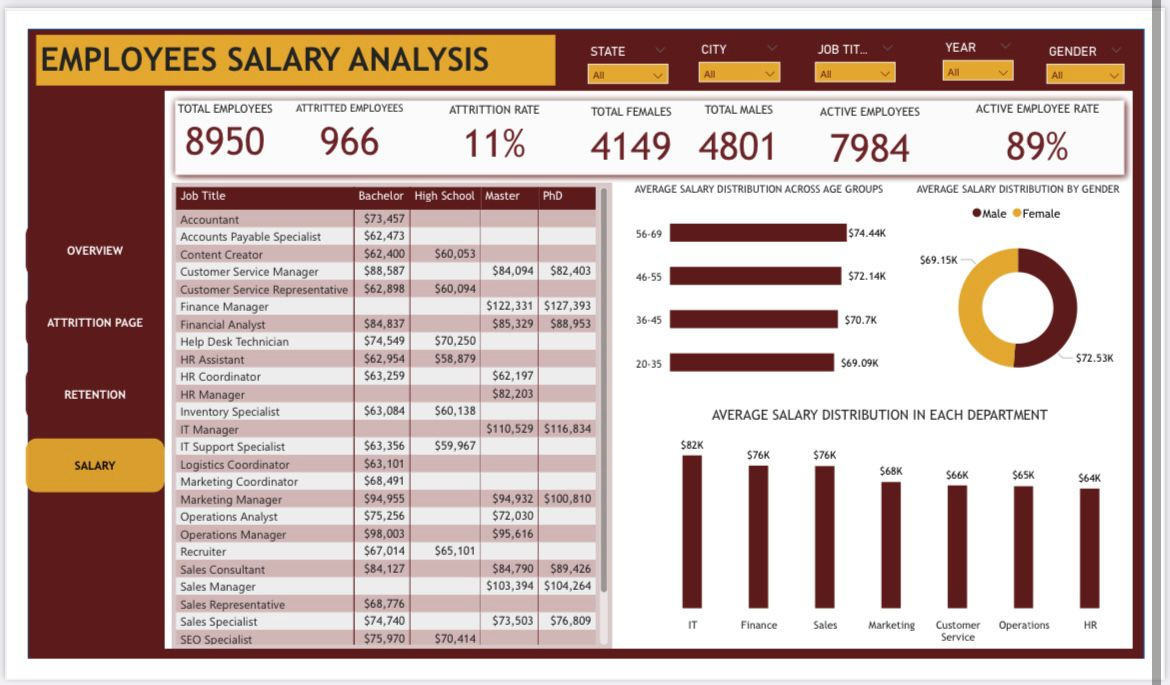

This screenshot's page, from the dashboard's own definition file:
{"tool":"powerbi","page":{"name":" SALARY","canvas":[1280,720],"ordinal":3},"visuals":[{"type":"shape","box":[1.7,0,1278.8,720.6],"z":0},{"type":"shape","box":[159,71.2,1108.2,637.7],"z":1000},{"type":"slicer","fields":{"Values":["HumanResources (2).Gender"]},"box":[1157.9,11.6,109.3,53],"z":2000},{"type":"slicer","fields":{"Values":["HumanResources (2).hireYear"]},"box":[1038.6,8.3,101,56.3],"z":3000},{"type":"shape","box":[162.3,72.9,1103.2,102.7],"z":4000},{"type":"card","title":"ATTRITTION RATE","fields":{"Values":["measures (2).AttrittedPercentage"]},"box":[467.1,84.5,139.1,71.2],"z":5000},{"type":"card","title":"TOTAL FEMALES","fields":{"Values":["measures (2).Total Females"]},"box":[621.2,86.1,144.1,74.5],"z":6000},{"type":"card","title":"ACTIVE EMPLOYEES","fields":{"Values":["measures (2).Active_Employees"]},"box":[892.8,86.1,145.8,79.5],"z":7000},{"type":"card","title":"TOTAL MALES","fields":{"Values":["measures (2).Total Males"]},"box":[752,84.5,127.5,79.5],"z":8000},{"type":"card","title":"ACTIVE EMPLOYEE RATE","fields":{"Values":["measures (2).active emp Percentage"]},"box":[1076.7,82.8,162.3,81.2],"z":9000},{"type":"slicer","fields":{"Values":["HumanResources (2).Job Title"]},"box":[892.8,9.9,112.6,61.3],"z":10000},{"type":"slicer","fields":{"Values":["HumanResources (2).City"]},"box":[760.3,9.9,112.6,61.3],"z":11000},{"type":"slicer","fields":{"Values":["HumanResources (2).State"]},"box":[632.8,11.6,112.6,61.3],"z":12000},{"type":"card","title":"TOTAL EMPLOYEES","fields":{"Values":["measures (2).Total_Employees"]},"box":[159,82.8,139.1,71.2],"z":13000},{"type":"card","title":"ATTRITTED EMPLOYEES","fields":{"Values":["measures (2).Attritted_Employees"]},"box":[301.5,82.8,139.1,71.2],"z":14000},{"type":"pivotTable","fields":{"Rows":["HumanResources (2).Job Title"],"Columns":["HumanResources (2).Education Level"],"Values":["measures (2).Average_Salary"]},"box":[167.3,175.6,503.6,533.4],"z":15000},{"type":"barChart","title":"AVERAGE SALARY DISTRIBUTION ACROSS AGE GROUPS","fields":{"Category":["HumanResources (2).Age Group"],"Y":["measures (2).Average_Salary"]},"box":[689.1,175.6,299.8,243.5],"z":16000},{"type":"donutChart","title":"AVERAGE SALARY DISTRIBUTION BY GENDER","fields":{"Category":["HumanResources (2).Gender"],"Y":["measures (2).Average_Salary"]},"box":[1005.5,175.6,260.1,243.5],"z":17000},{"type":"columnChart","title":"AVERAGE SALARY DISTRIBUTION IN EACH DEPARTMENT","fields":{"Y":["measures (2).Average_Salary"],"Category":["HumanResources (2).Department"]},"box":[689.1,430.7,576.5,278.3],"z":18000},{"type":"pageNavigator","box":[0,222,159,308.1],"z":19000},{"type":"textbox","box":[11.6,6.6,594.7,58],"z":20000}]}

Visuals, with their boxes on the page's 1280x720 design canvas (x1, y1, x2, y2). These are canvas units, not pixel positions in the 1170x685 screenshot, which may show the page scaled, cropped or inside an application window:
shape: box=[2, 0, 1280, 721]
shape: box=[159, 71, 1267, 709]
slicer - HumanResources (2).Gender: box=[1158, 12, 1267, 65]
slicer - HumanResources (2).hireYear: box=[1039, 8, 1140, 65]
shape: box=[162, 73, 1266, 176]
"ATTRITTION RATE" card: box=[467, 84, 606, 156]
"TOTAL FEMALES" card: box=[621, 86, 765, 161]
"ACTIVE EMPLOYEES" card: box=[893, 86, 1039, 166]
"TOTAL MALES" card: box=[752, 84, 880, 164]
"ACTIVE EMPLOYEE RATE" card: box=[1077, 83, 1239, 164]
slicer - HumanResources (2).Job Title: box=[893, 10, 1005, 71]
slicer - HumanResources (2).City: box=[760, 10, 873, 71]
slicer - HumanResources (2).State: box=[633, 12, 745, 73]
"TOTAL EMPLOYEES" card: box=[159, 83, 298, 154]
"ATTRITTED EMPLOYEES" card: box=[302, 83, 441, 154]
pivotTable - HumanResources (2).Job Title x HumanResources (2).Education Level: box=[167, 176, 671, 709]
"AVERAGE SALARY DISTRIBUTION ACROSS AGE GROUPS" barChart: box=[689, 176, 989, 419]
"AVERAGE SALARY DISTRIBUTION BY GENDER" donutChart: box=[1006, 176, 1266, 419]
"AVERAGE SALARY DISTRIBUTION IN EACH DEPARTMENT" columnChart: box=[689, 431, 1266, 709]
pageNavigator: box=[0, 222, 159, 530]
textbox: box=[12, 7, 606, 65]
